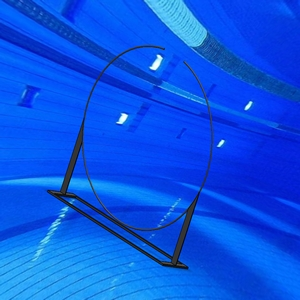circle: (47, 45, 215, 270)
